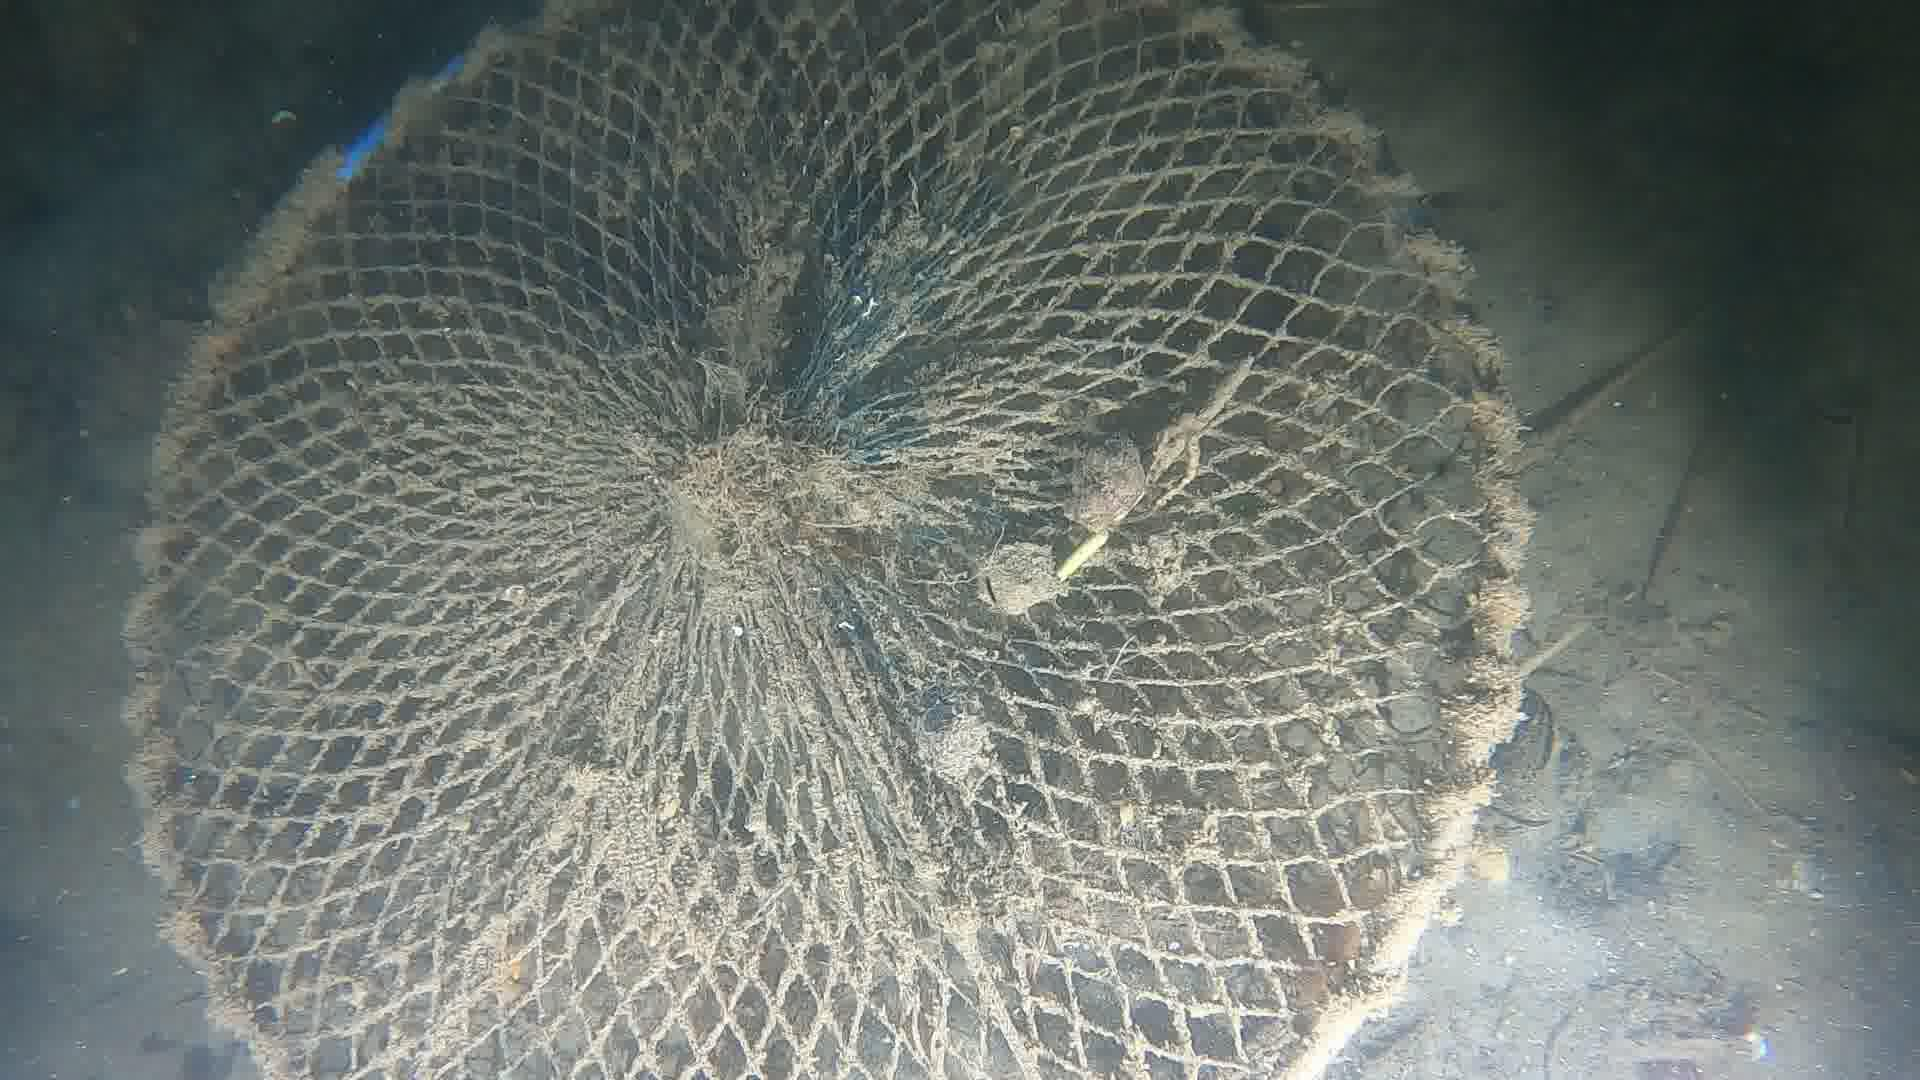circular fish trap: (111, 0, 1542, 1080)
